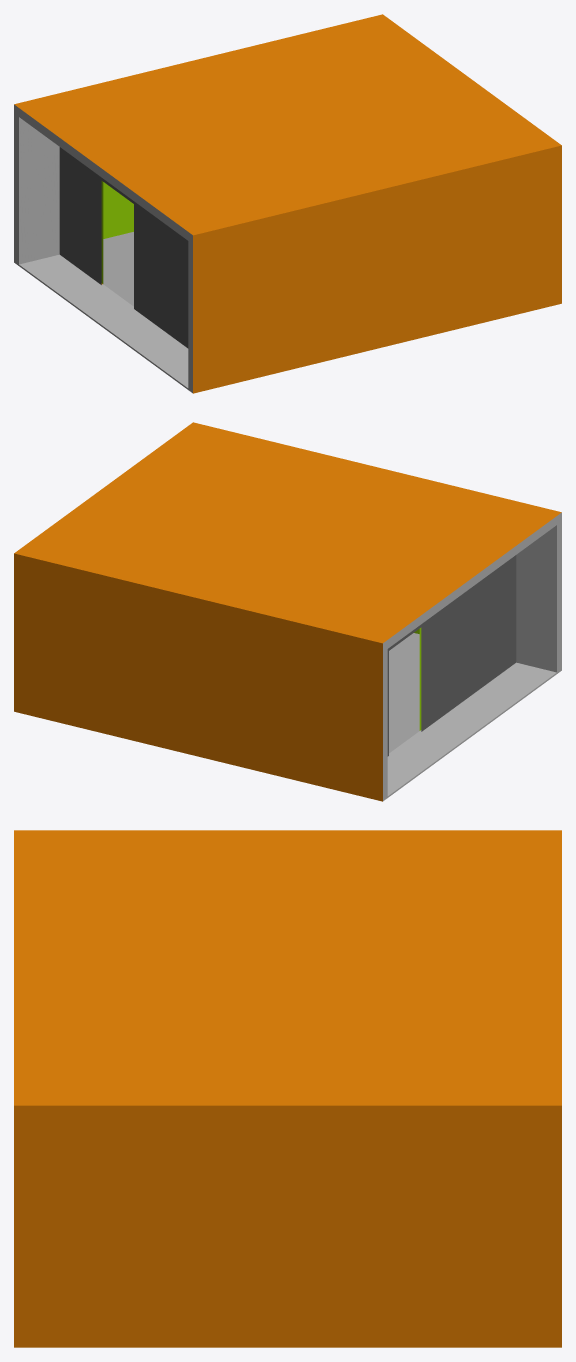
The model's file is EMG_Middle_Room.fbx.
The picture shows the model from 3 angles, top to bottom: view 1: azimuth 30°, elevation 25°; view 2: azimuth 150°, elevation 25°; view 3: azimuth 270°, elevation 25°; orthographic projection. The views are drawn at different scales.
Parts seen in each view (by area): view 1: EMG_Middle_Room; view 2: EMG_Middle_Room; view 3: EMG_Middle_Room.
Boxes of the visible parts, x1,y1,x2,y2 form: EMG_Middle_Room: (14,14,561,393); EMG_Middle_Room: (14,422,561,801); EMG_Middle_Room: (14,830,561,1347).
Bounding box in the file's own units: 875 × 359 × 736.
